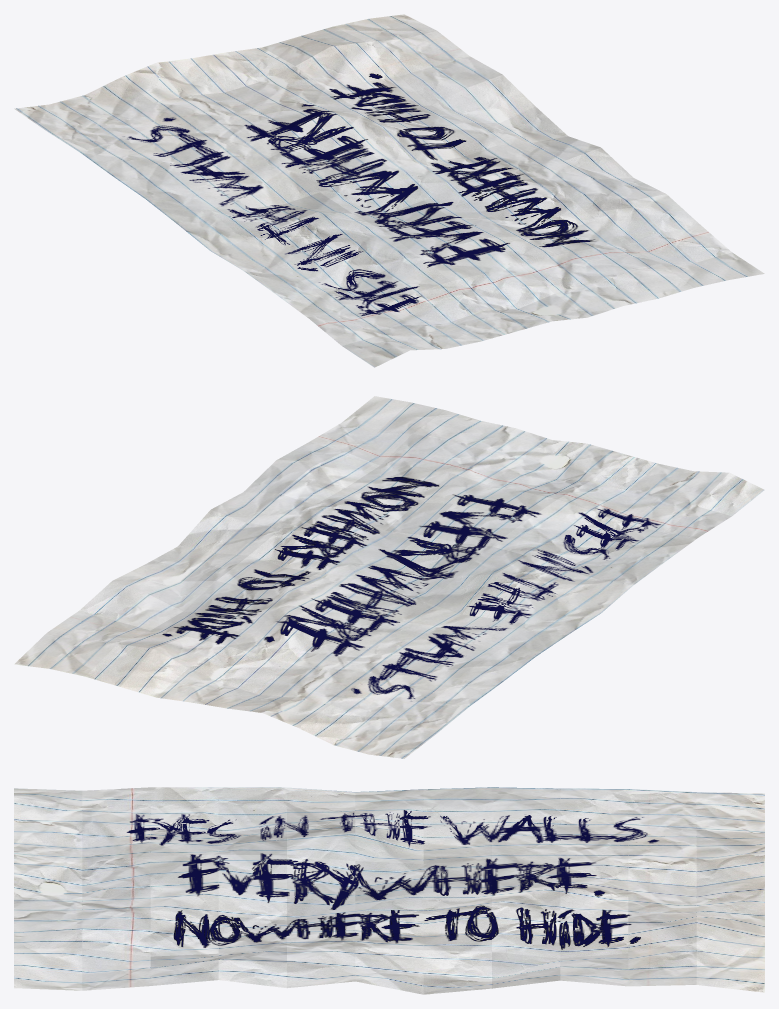
Rendered from letter.fbx.
The picture shows the model from 3 angles, top to bottom: view 1: azimuth 30°, elevation 25°; view 2: azimuth 150°, elevation 25°; view 3: azimuth 270°, elevation 25°; orthographic projection. The views are drawn at different scales.
Visible parts, largest first — view 1: 1; view 2: 1; view 3: 1.
Boxes of the visible parts, <box> form: 1: <box>14,14,764,367</box>; 1: <box>14,396,764,758</box>; 1: <box>14,787,764,994</box>.
Size of the model in its own units: 100 by 5.35 by 160.
